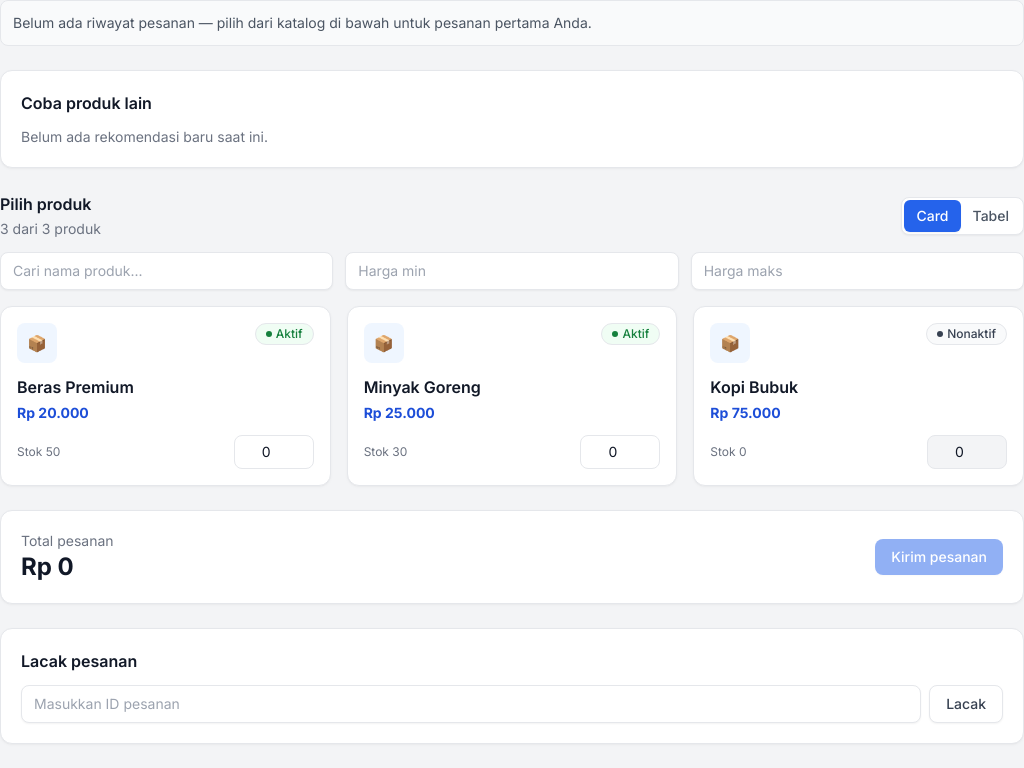
Test: OrderForm — view mode + product filters › switches to a table when the "Tabel" toggle is clicked
Expected: the heading "Beras Premium" is shown, [17, 377, 134, 397]
Click the button "Tabel" at (991, 216), box [960, 200, 1021, 232]
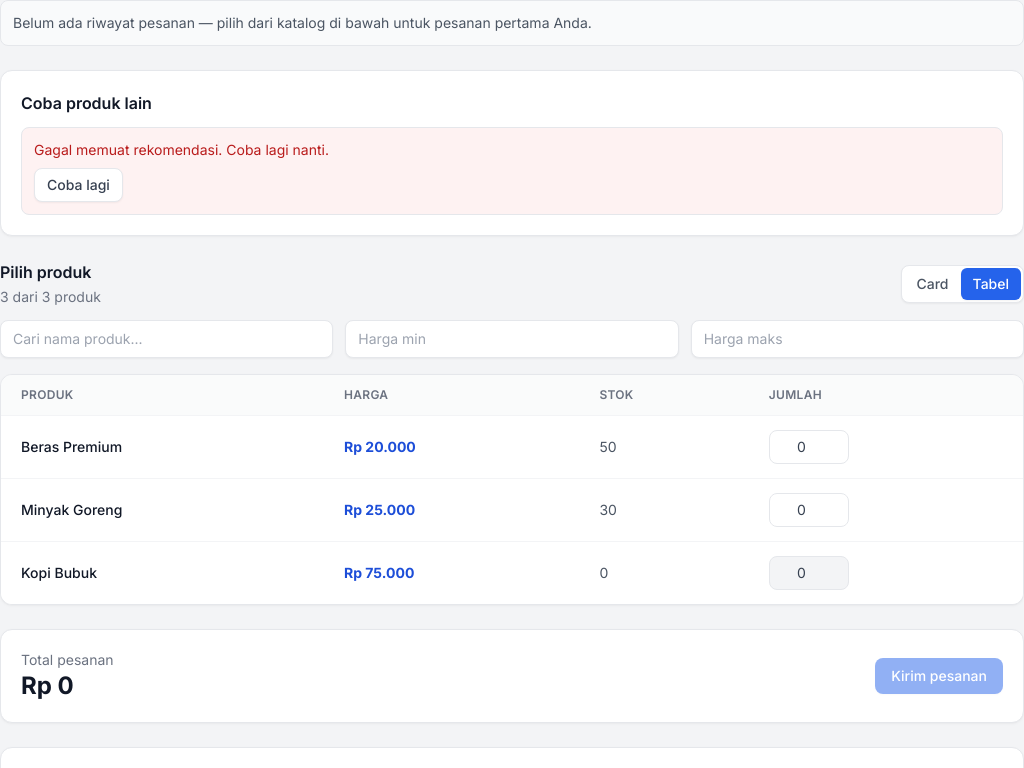
Expected: the number of number fields named "Jumlah " is 3, [769, 430, 849, 464]; [769, 493, 849, 527]; [769, 556, 849, 590]
Now the table is shown, box [1, 375, 1023, 604]
